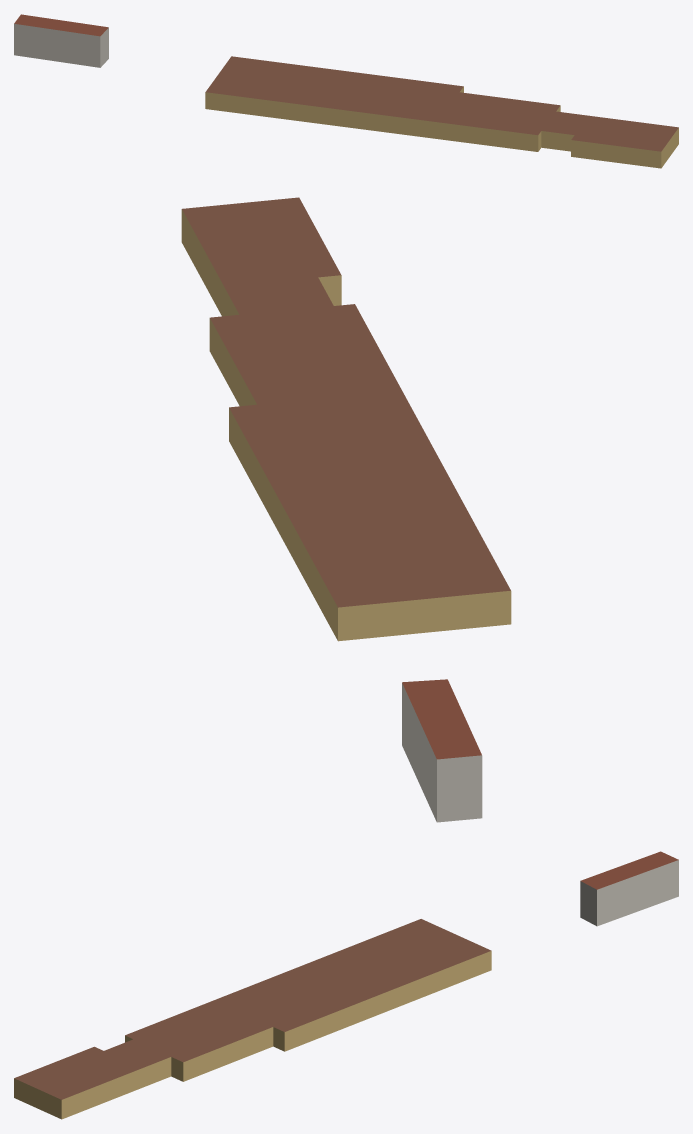
File: SM_Fondale_Citta_E_01_LOD1.fbx
3 views of the same model, one above another, from view 1: azimuth 30°, elevation 25°; view 2: azimuth 150°, elevation 25°; view 3: azimuth 270°, elevation 25° (orthographic). The views are drawn at different scales.
Parts seen in each view (by area): view 1: SM_Fondale_Citta_E_01_LOD1; view 2: SM_Fondale_Citta_E_01_LOD1; view 3: SM_Fondale_Citta_E_01_LOD1.
Boxes of the visible parts, <box> form: SM_Fondale_Citta_E_01_LOD1: <box>14,14,678,168</box>; SM_Fondale_Citta_E_01_LOD1: <box>181,197,511,822</box>; SM_Fondale_Citta_E_01_LOD1: <box>14,851,678,1119</box>.
Bounding box in the file's own units: 16102 × 19553 × 1190.
